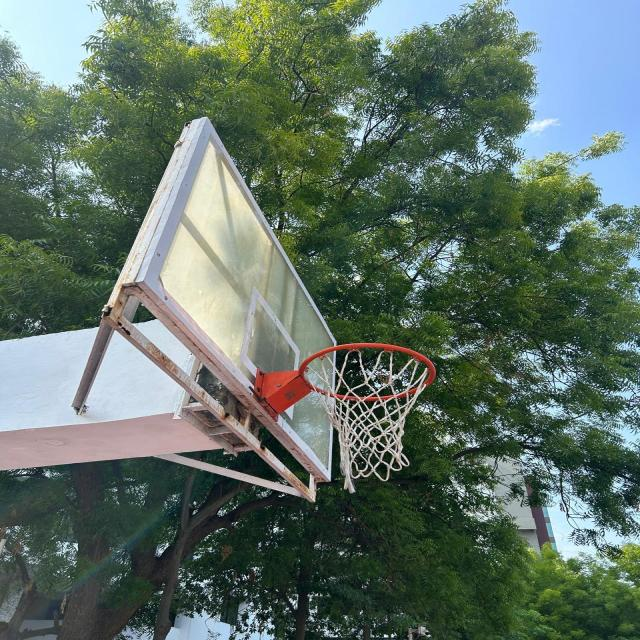hoop: (247, 323, 476, 522)
